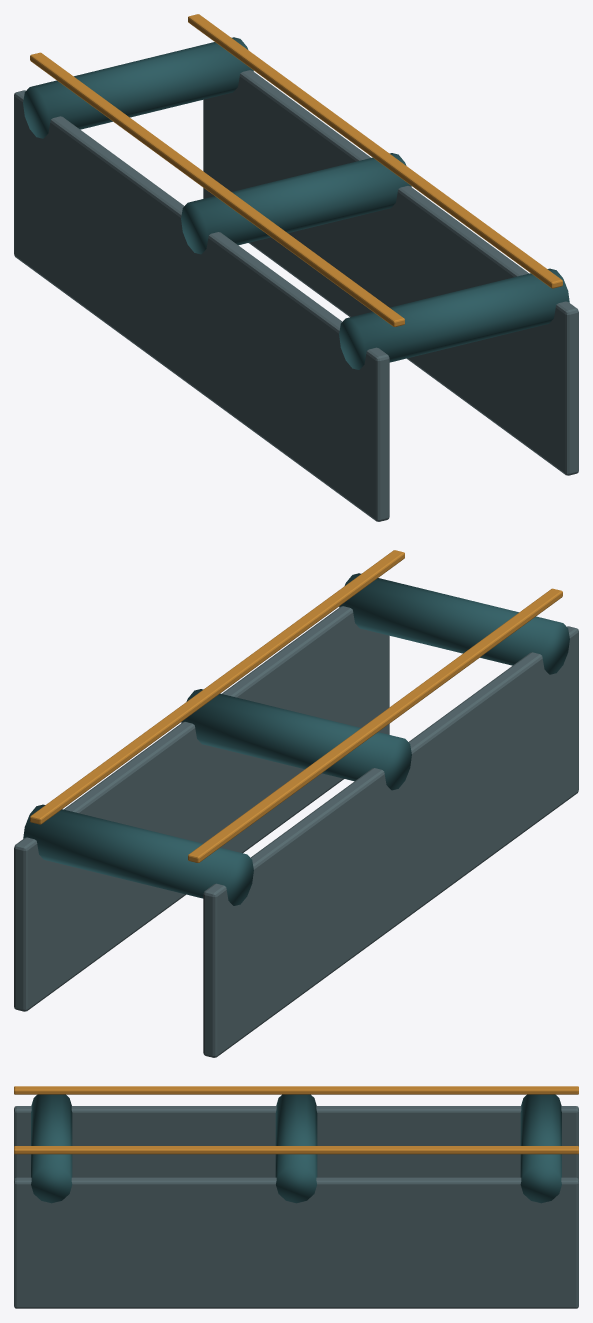
The model's file is long_conduit.glb.
3 views of the same model, one above another, from view 1: azimuth 30°, elevation 25°; view 2: azimuth 150°, elevation 25°; view 3: azimuth 270°, elevation 25° (orthographic). The views are drawn at different scales.
Parts seen in each view (by area): view 1: long_conduit; view 2: long_conduit; view 3: long_conduit.
Part boxes in pixels (x1=…): long_conduit: x1=14, y1=14, x2=578, y2=521; long_conduit: x1=14, y1=550, x2=578, y2=1057; long_conduit: x1=14, y1=1086, x2=578, y2=1308.
Size of the model in its own units: 1.94 by 1.8 by 6.
